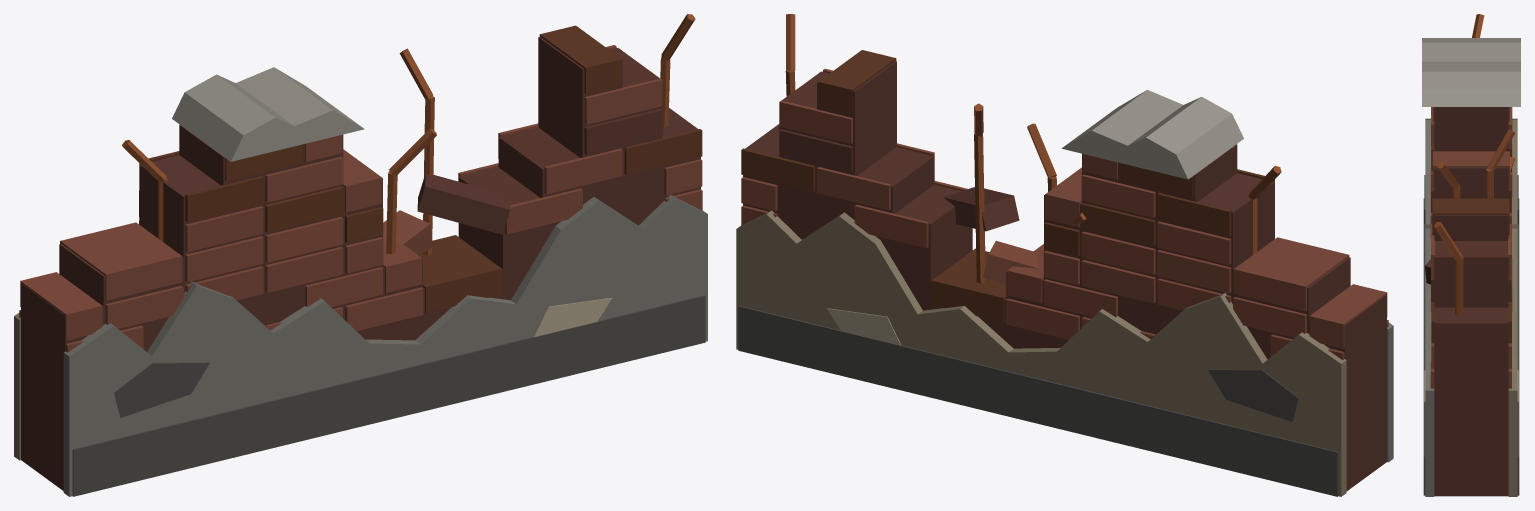
The model's file is ruin_parapet_a.fbx.
3 views of the same model, side by side, from view 1: azimuth 30°, elevation 25°; view 2: azimuth 150°, elevation 25°; view 3: azimuth 270°, elevation 25° (orthographic). The views are drawn at different scales.
Parts seen in each view (by area): view 1: ruin_parapet_a; view 2: ruin_parapet_a; view 3: ruin_parapet_a.
Part boxes in pixels (x1,y1,x2,y2): ruin_parapet_a: (14,14,707,496); ruin_parapet_a: (736,14,1393,496); ruin_parapet_a: (1422,14,1520,496).
Size of the model in its own units: 2 by 0.99 by 0.32.
